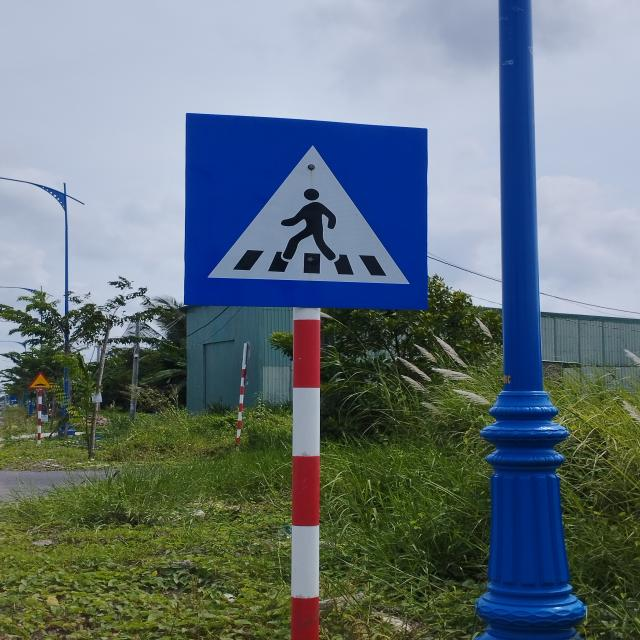Giao_Nhau_Duong_Uu_Tien: (184, 112, 432, 309)
